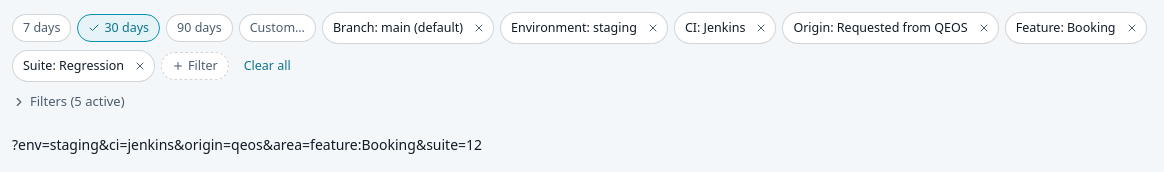
Test: applied chips name each filter; removing one moves focus to the next chip
Check: the text "Environment: staging" is shown, box [511,19,637,37]
Check: the text "CI: Jenkins" is shown, box [685,19,745,37]
Click the button named "Remove filter Environment: staging" at (653, 28), box [641,16,665,40]
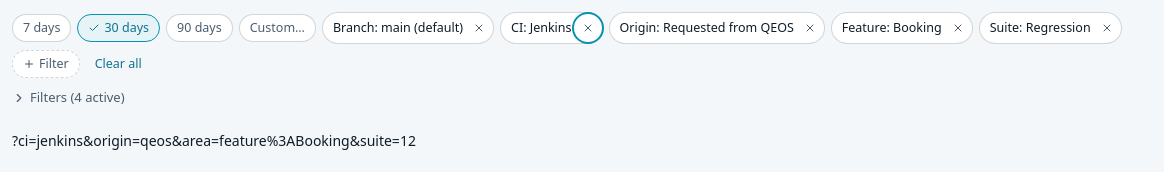
Check: the text with test id "search" no longer shows "env="
